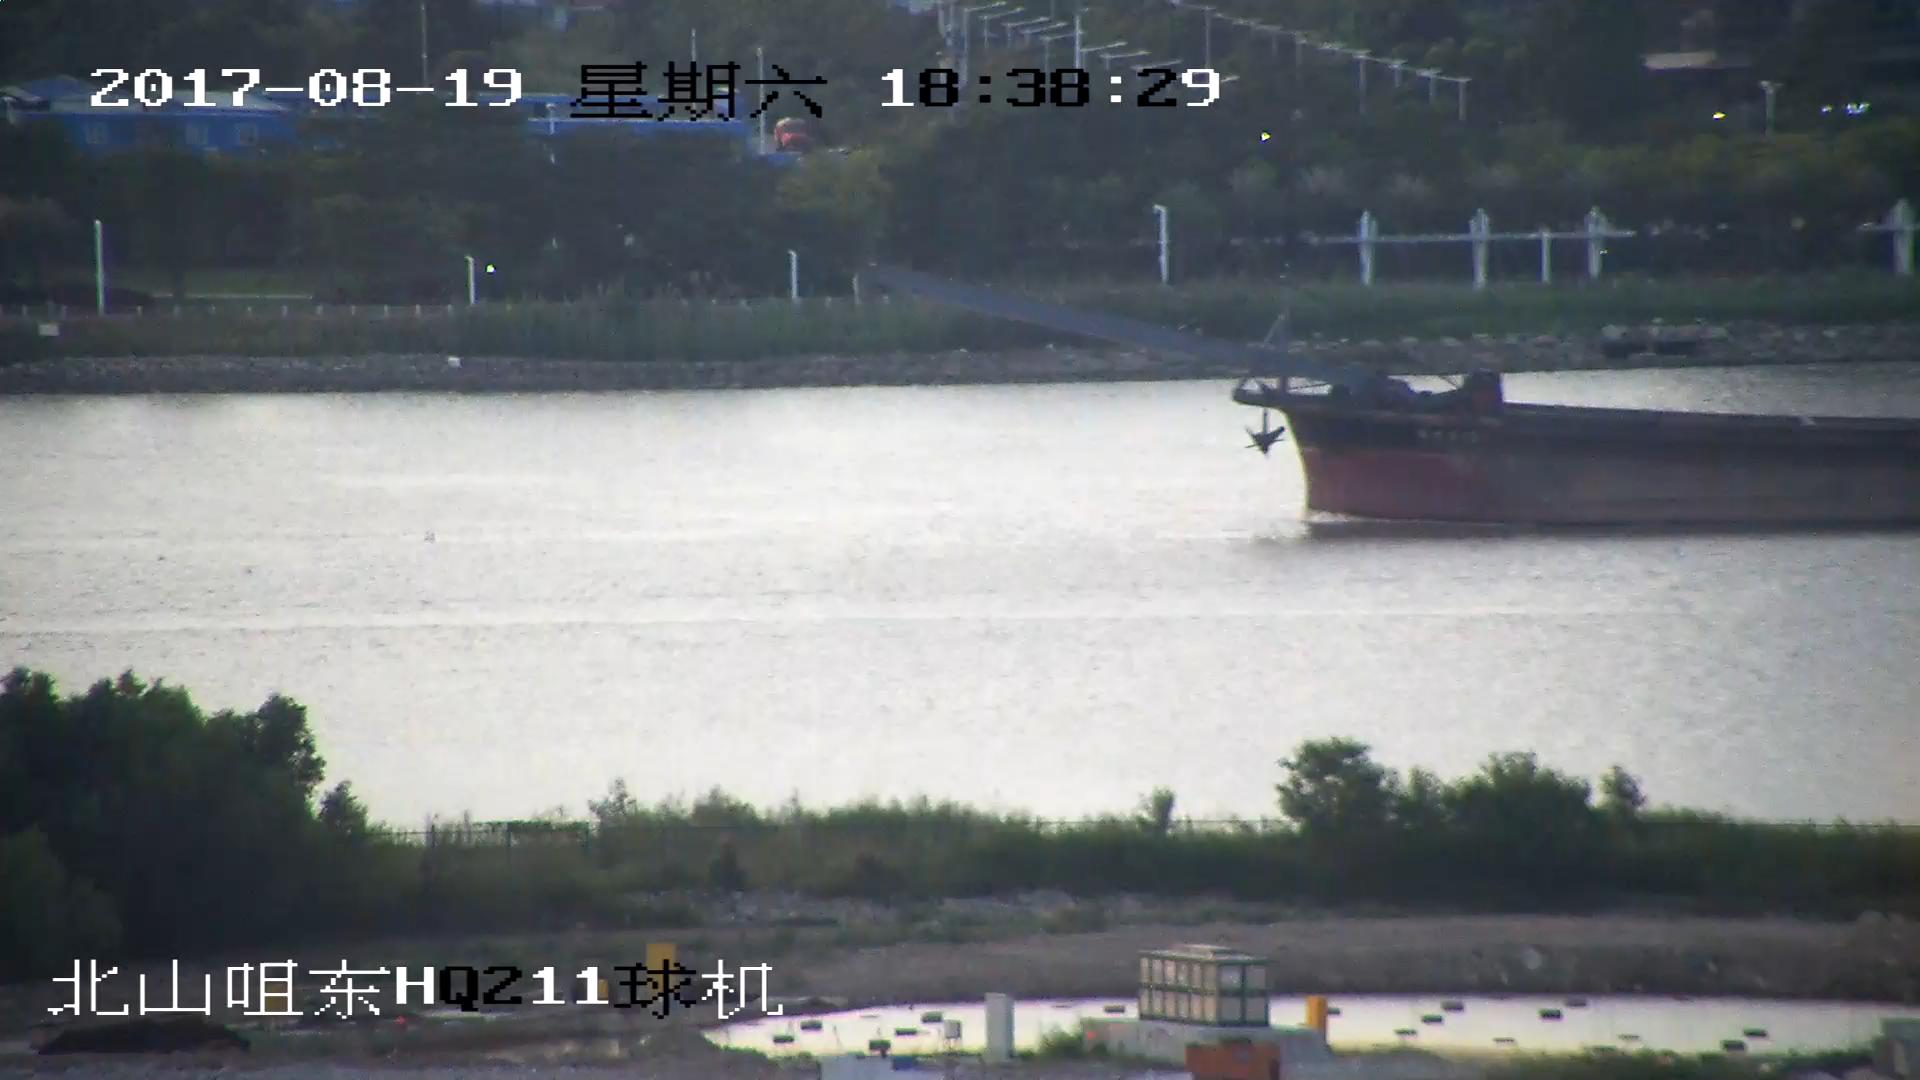bulk cargo carrier: (875, 274, 1920, 531)
